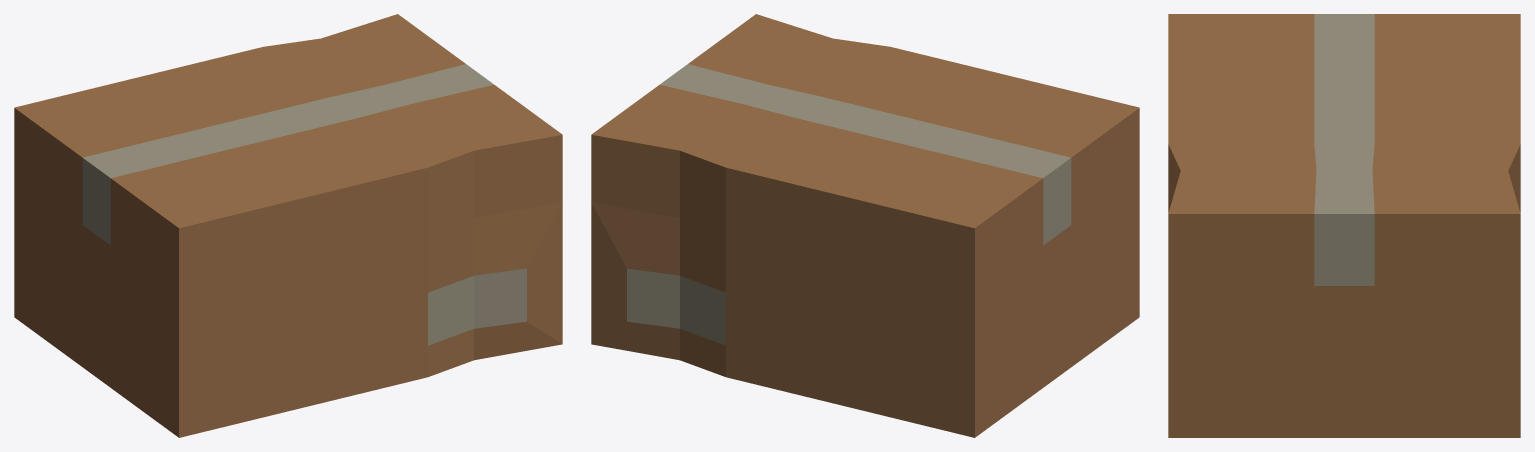
Rendered from CardboardBox.gltf.
3 renders of one model, left to right at view 1: azimuth 30°, elevation 25°; view 2: azimuth 150°, elevation 25°; view 3: azimuth 270°, elevation 25°, orthographic. The views are drawn at different scales.
Visible parts, largest first — view 1: CardboardBoxes_1; view 2: CardboardBoxes_1; view 3: CardboardBoxes_1.
Boxes of the visible parts, x1,y1,x2,y2 form: CardboardBoxes_1: (14,14,562,437); CardboardBoxes_1: (591,14,1139,437); CardboardBoxes_1: (1168,14,1520,437).
Size of the model in its own units: 0.9755 by 0.5093 by 0.7265.
